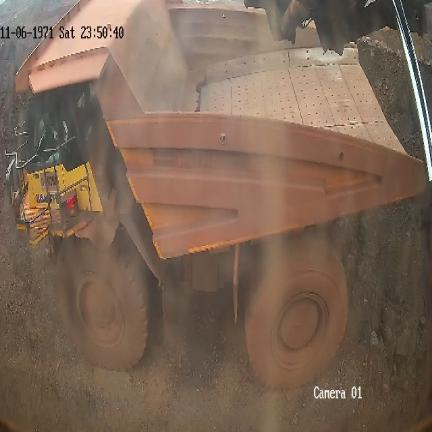pile: (324, 195, 432, 420)
